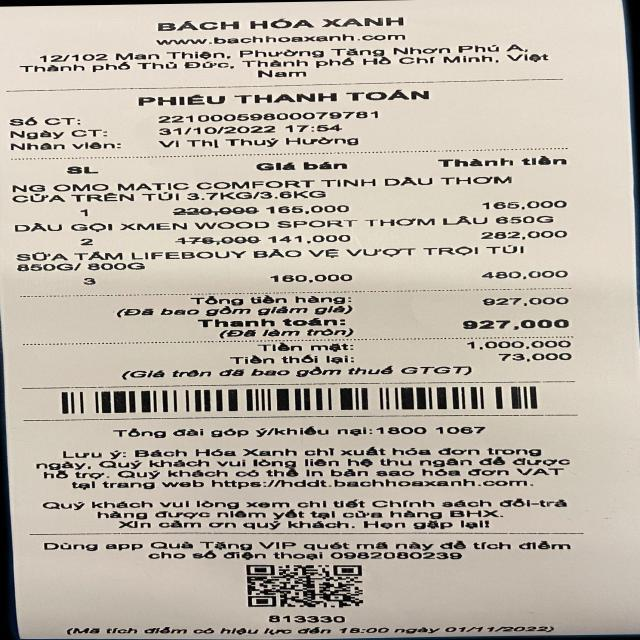Date: (148, 124, 282, 136)
Store_Name: (138, 15, 428, 34)
amount_number: (433, 317, 584, 333)
label_total: (194, 314, 349, 332)
